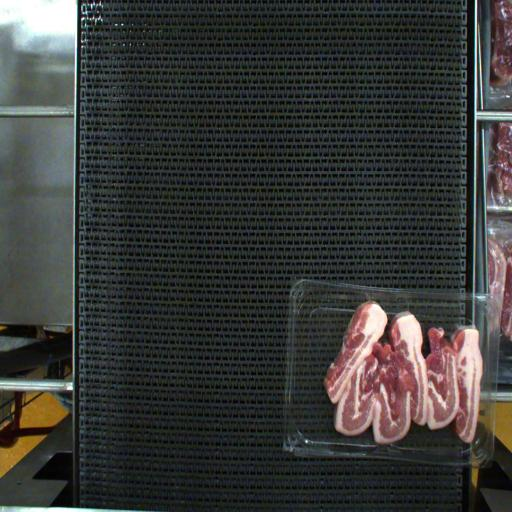packaging-error: (356, 276, 437, 332)
